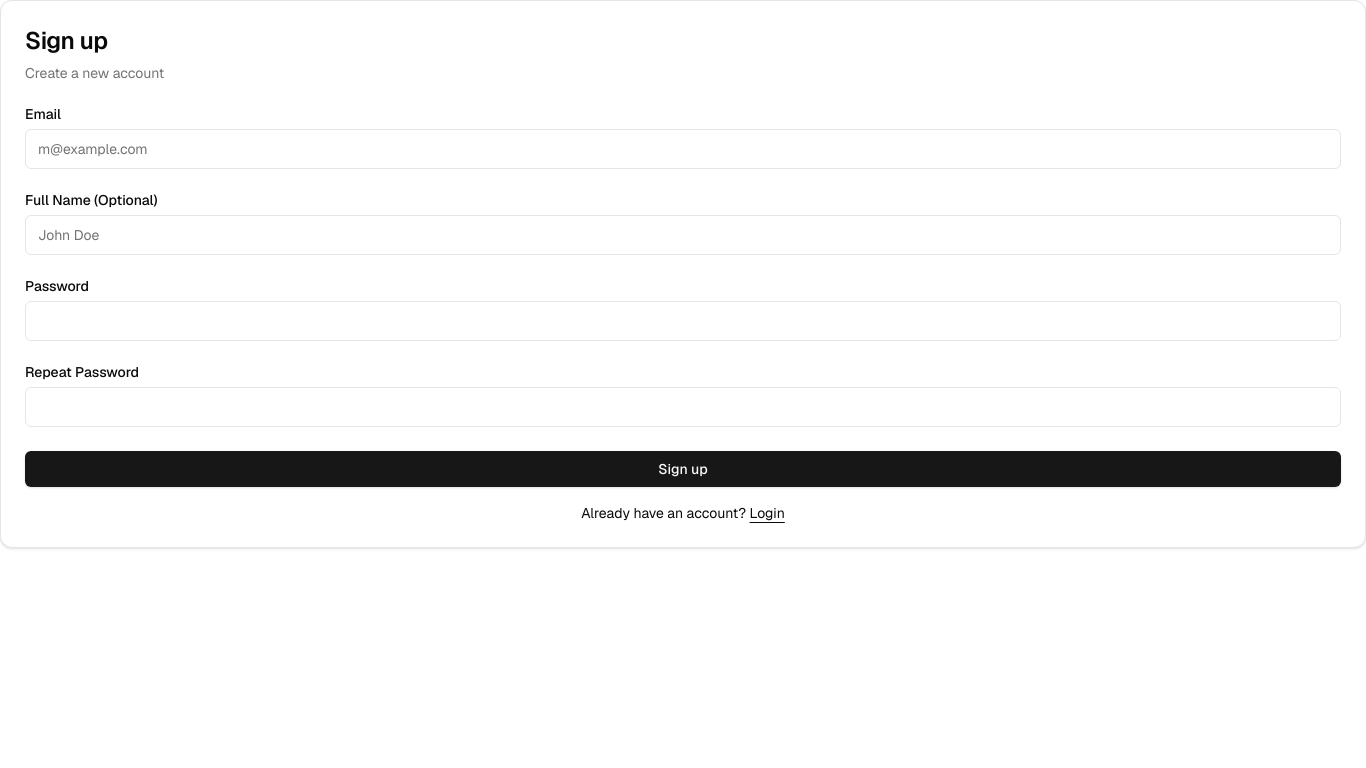
Test: SignUpForm › shows error message when registration fails
The width and height of the screenshot is (1366, 768).
Type "test@example.com" into the field labelled "Email" at [683, 149], box [25,129,1341,169]
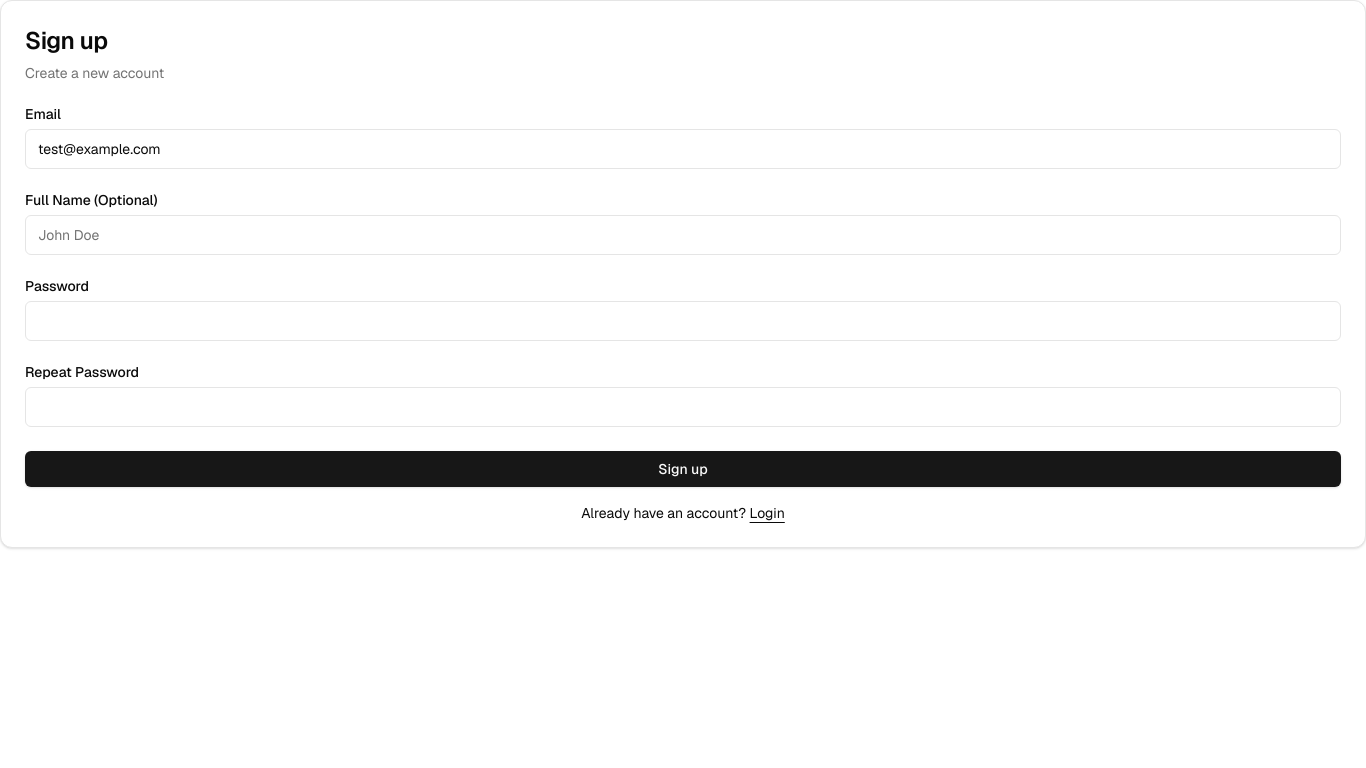
Type "password123" into the password field labelled "Password" at [683, 321], box [25,301,1341,341]
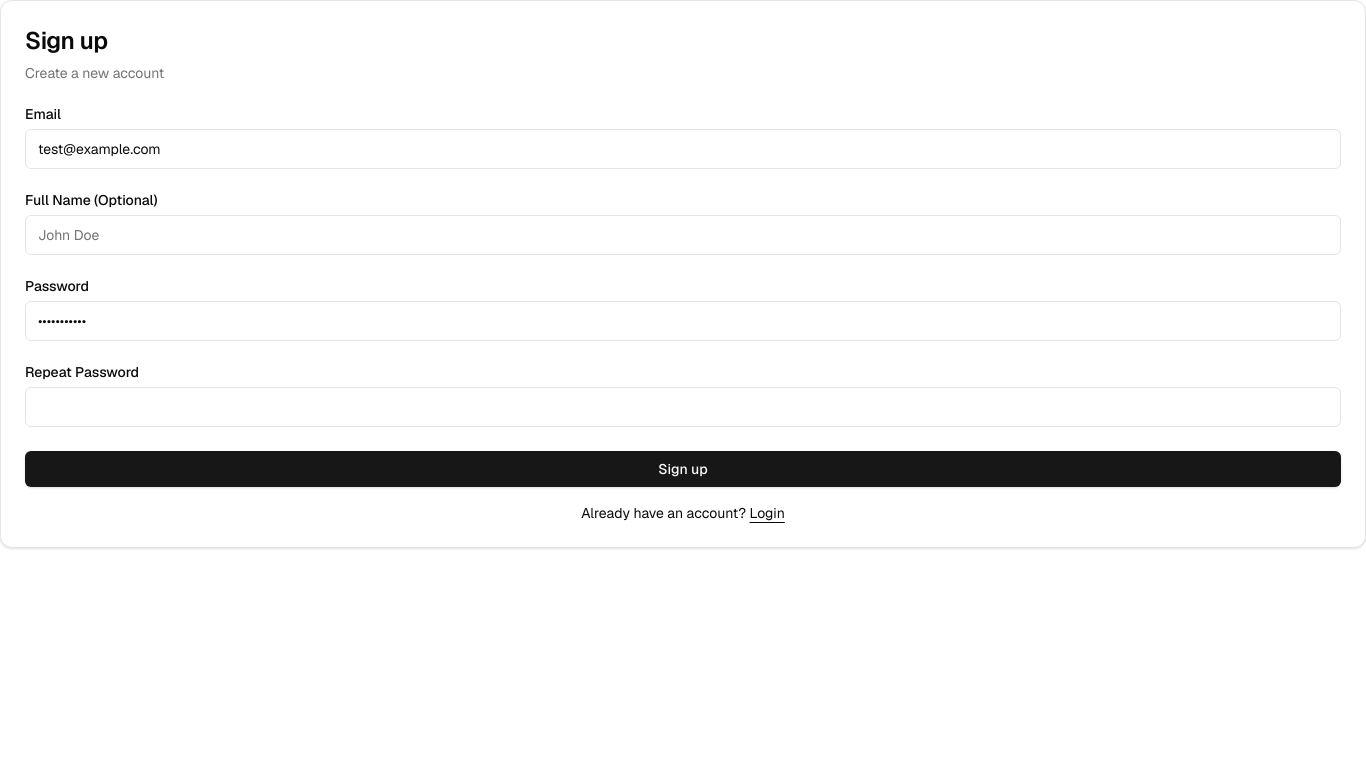
Type "password123" into the password field labelled "Repeat Password" at [683, 407], box [25,387,1341,427]
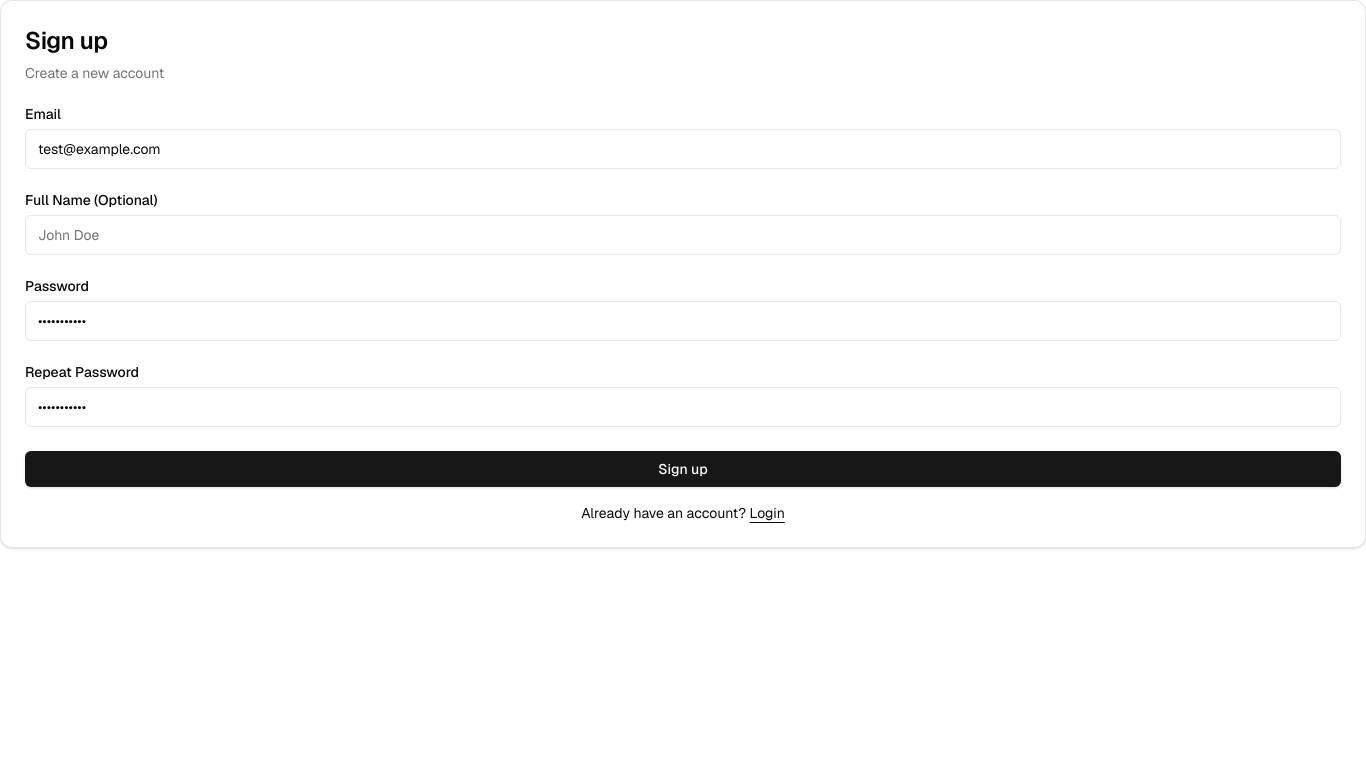
Click the button "Sign up" at [683, 469], box [25,451,1341,487]
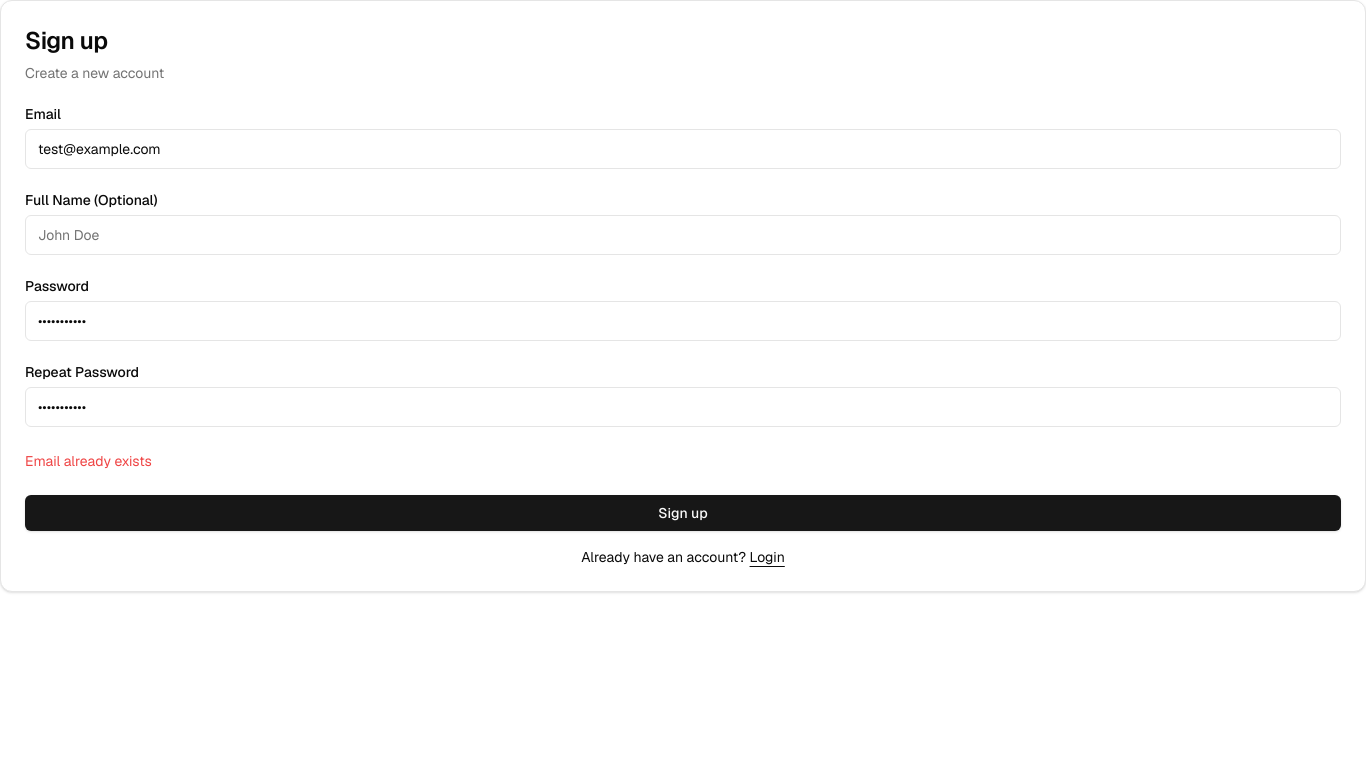
expect the text "Email already exists" is shown: met, box [25,452,152,470]
